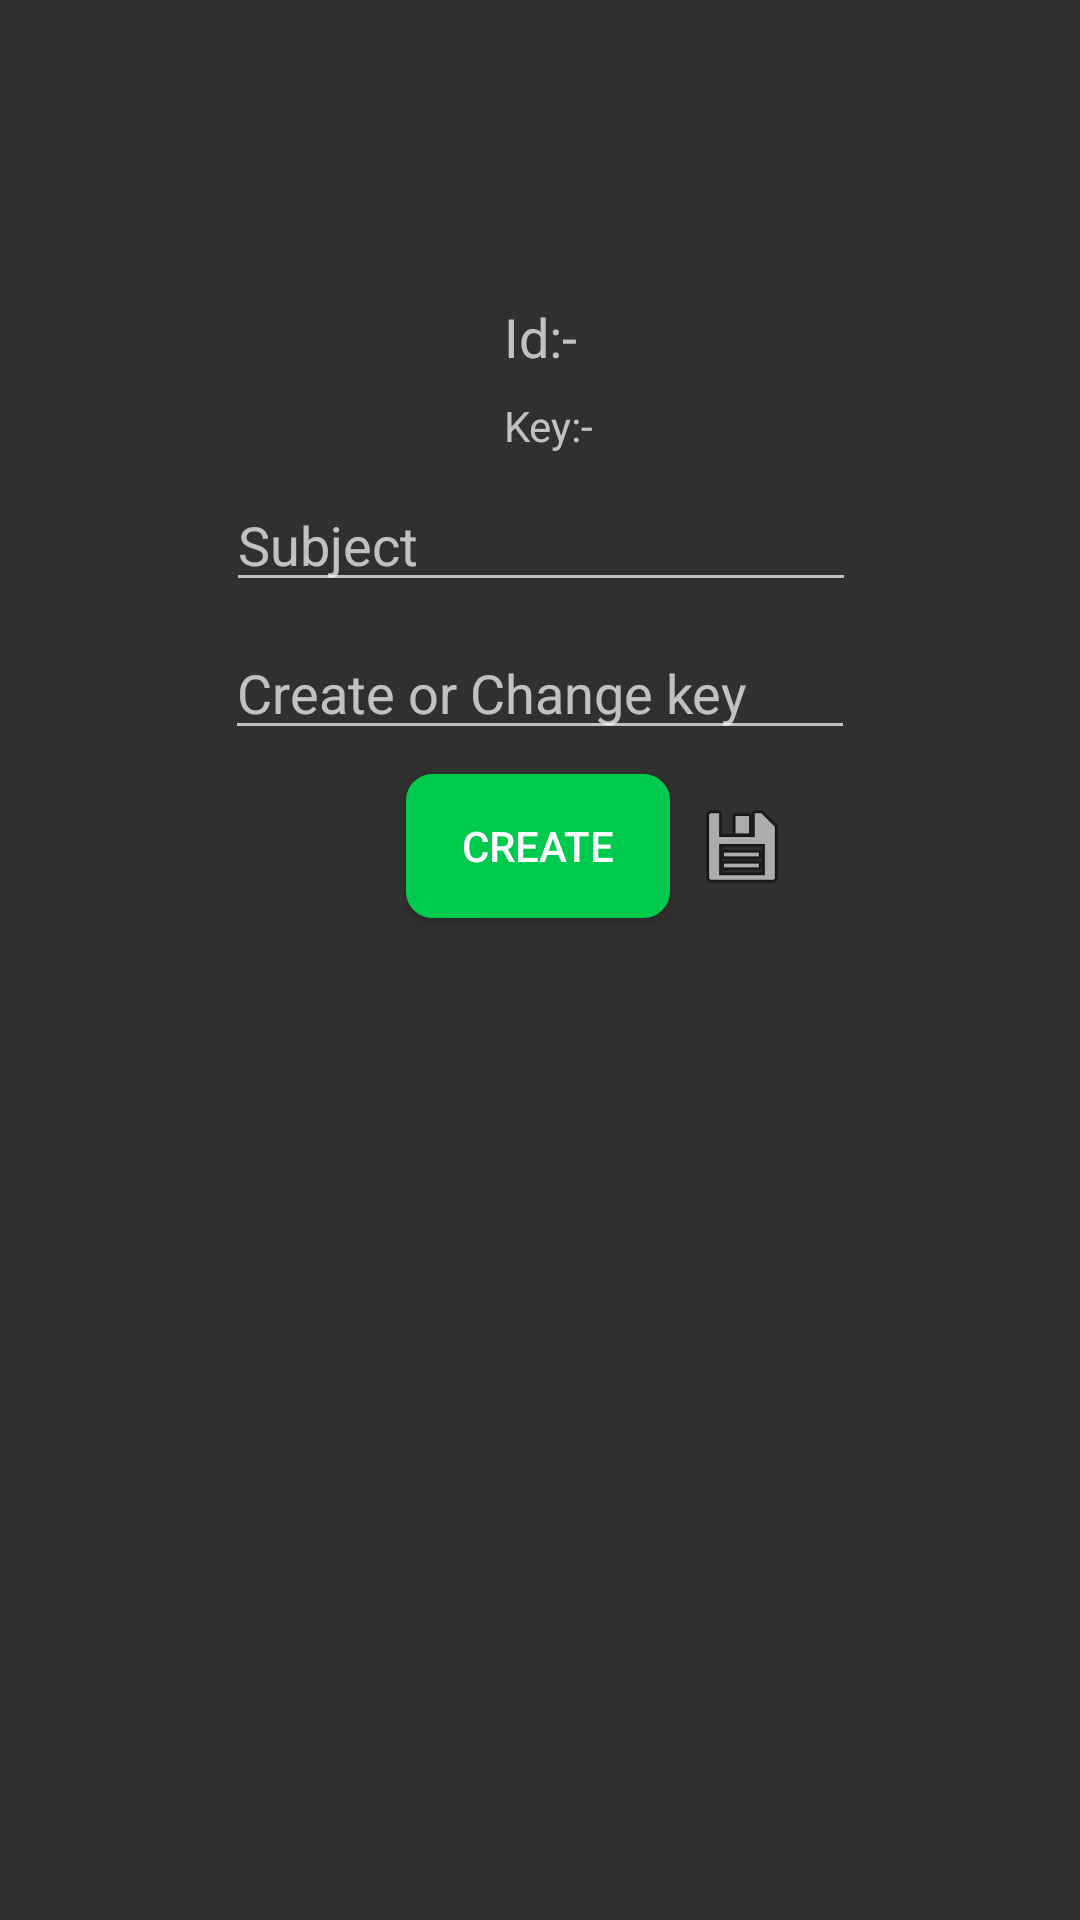

Point at icon controls on the screen. Image size 1080w x 1920h, points as point (x, y).
save: point (742, 846)
